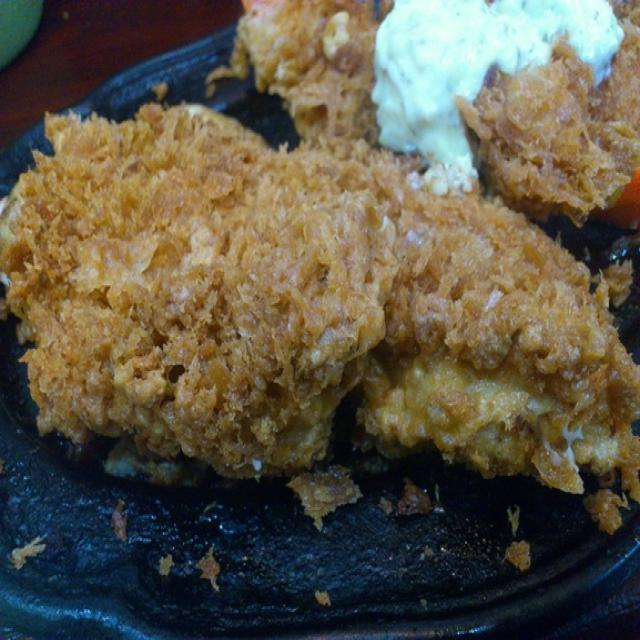牛肉菜式: (6, 10, 631, 618)
